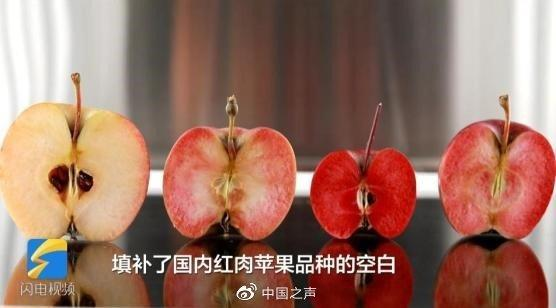apple: (1, 104, 149, 244), (164, 126, 295, 239), (439, 118, 554, 239), (309, 147, 416, 238)
